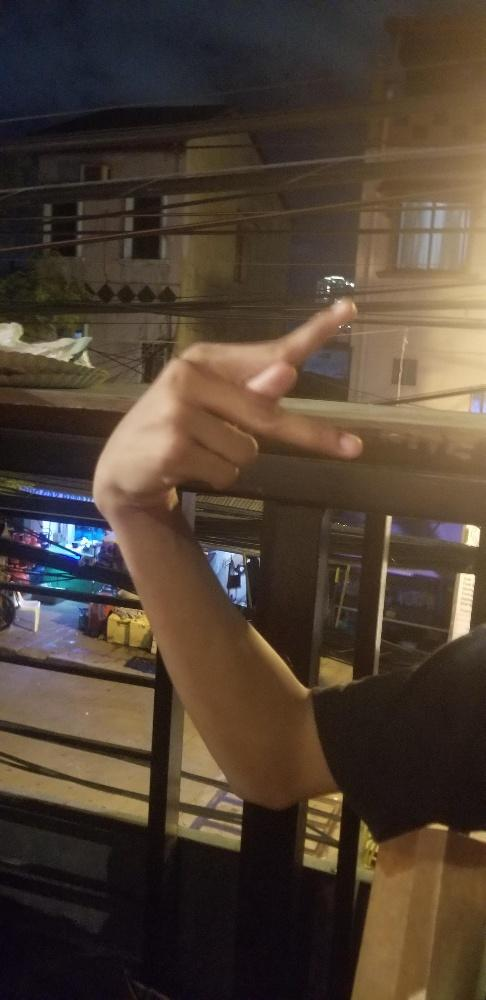k: (91, 295, 360, 495)
